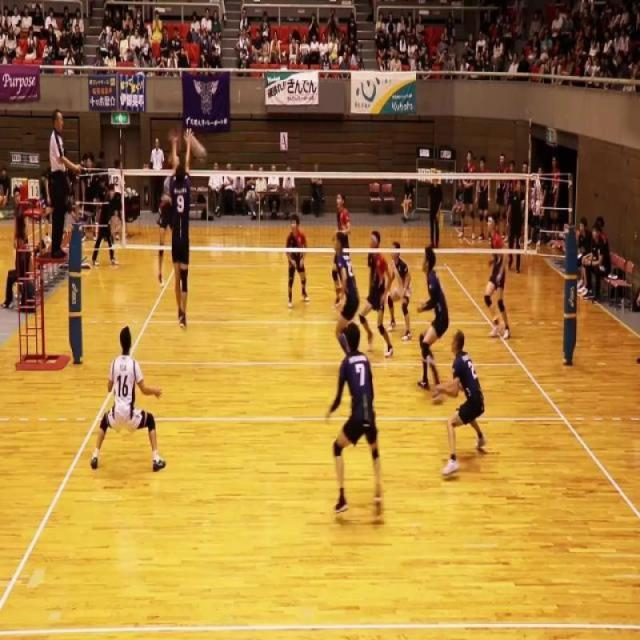volleyball: (188, 134, 208, 162)
